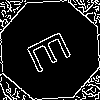E: (25, 25, 81, 75)
